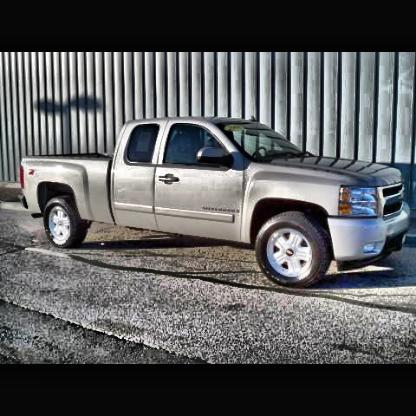Chevrolet Silverado 1500 Extended Cab 2012: (20, 117, 414, 291)
